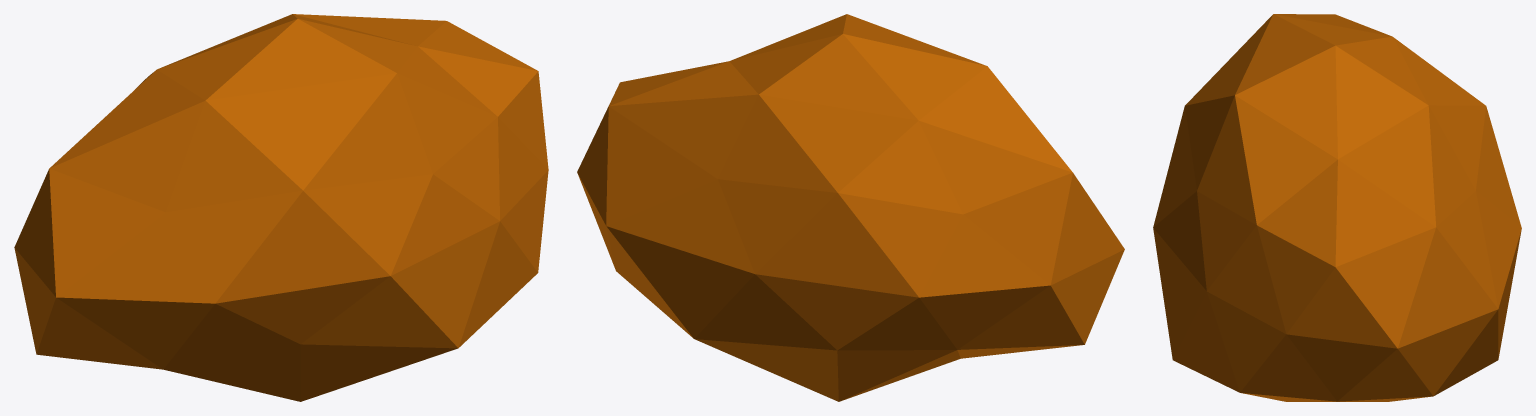
Rendered from asteroid.fbx.
The picture shows the model from 3 angles, left to right: view 1: azimuth 30°, elevation 25°; view 2: azimuth 150°, elevation 25°; view 3: azimuth 270°, elevation 25°; orthographic projection. The views are drawn at different scales.
Parts seen in each view (by area): view 1: Asteroid; view 2: Asteroid; view 3: Asteroid.
Boxes of the visible parts, x1,y1,x2,y2 form: Asteroid: (14,14,548,401); Asteroid: (577,14,1124,401); Asteroid: (1153,14,1521,401).
Size of the model in its own units: 182 by 117 by 114.
